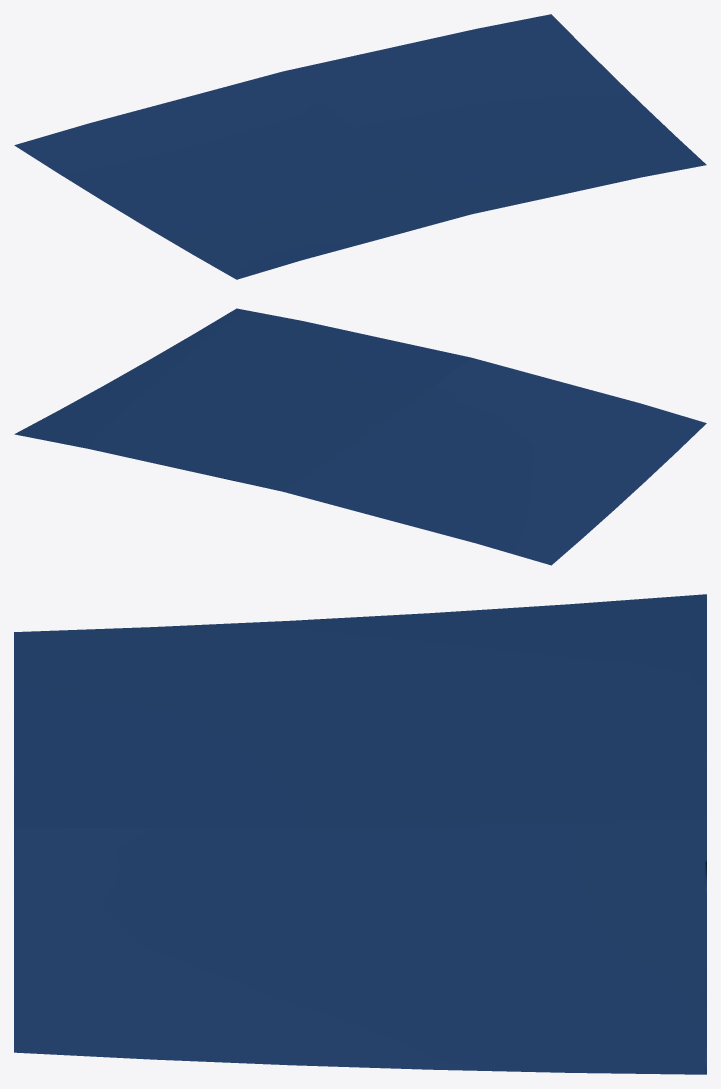
File: trunk.glb
The picture shows the model from 3 angles, top to bottom: view 1: azimuth 30°, elevation 25°; view 2: azimuth 150°, elevation 25°; view 3: azimuth 270°, elevation 25°; orthographic projection. The views are drawn at different scales.
Parts seen in each view (by area): view 1: GEO_Trunk; view 2: GEO_Trunk; view 3: GEO_Trunk.
Boxes of the visible parts, x1,y1,x2,y2 form: GEO_Trunk: [14, 14, 706, 279]; GEO_Trunk: [14, 308, 706, 565]; GEO_Trunk: [14, 594, 706, 1074].
Size of the model in its own units: 1.28 by 0.0297 by 0.78.
